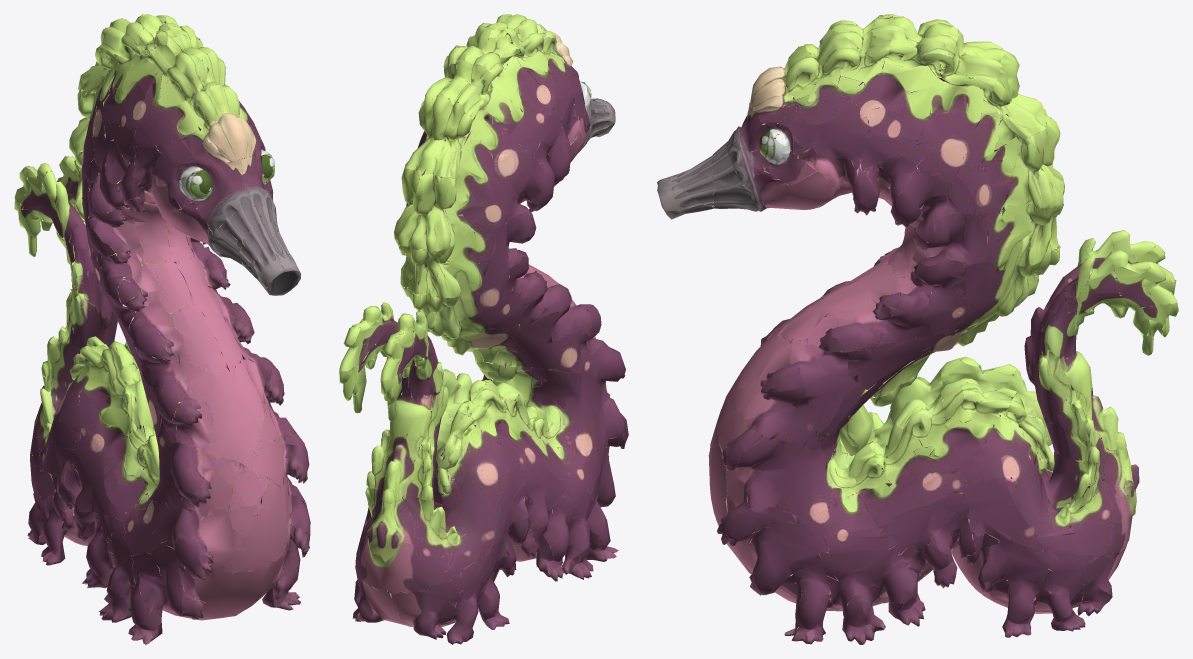
The picture shows the model from 3 angles, left to right: view 1: azimuth 30°, elevation 25°; view 2: azimuth 150°, elevation 25°; view 3: azimuth 270°, elevation 25°; orthographic projection. The views are drawn at different scales.
Parts seen in each view (by area): view 1: Mesh_0; view 2: Mesh_0; view 3: Mesh_0.
Part boxes in pixels (<box>): Mesh_0: <box>14,14,310,644</box>; Mesh_0: <box>339,14,628,644</box>; Mesh_0: <box>657,14,1178,644</box>.
Size of the model in its own units: 0.6119 by 1.9 by 1.53.
Materials: 1 (1 with a texture image).
